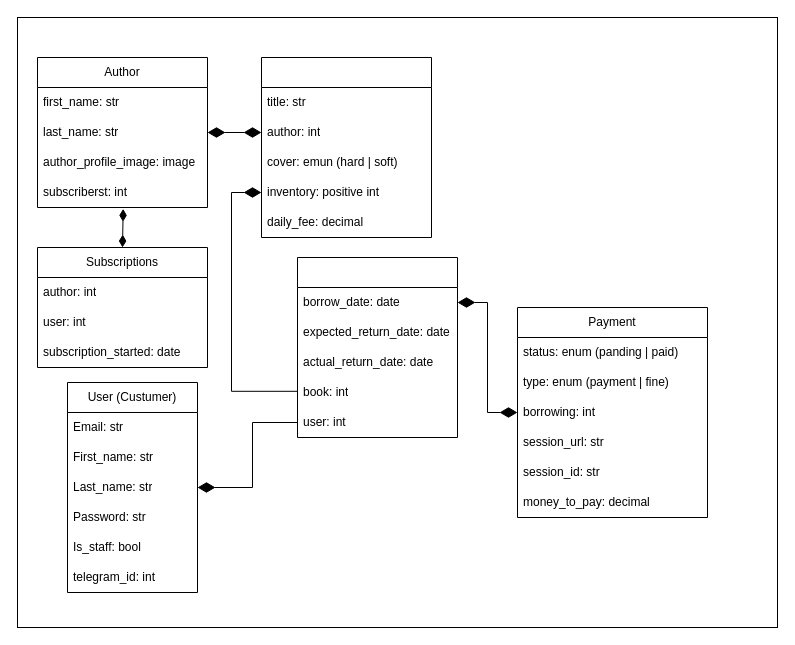
The diagram is 795 pixels wide and 645 high, and some of its shapes have lost their labels. The shapes that lost their labels are listed below. From the top down, each one's box as (x1, y1, x2, y2) in pixels, then its label:
(260, 56, 432, 238): Book
(296, 256, 458, 438): Borrowing
